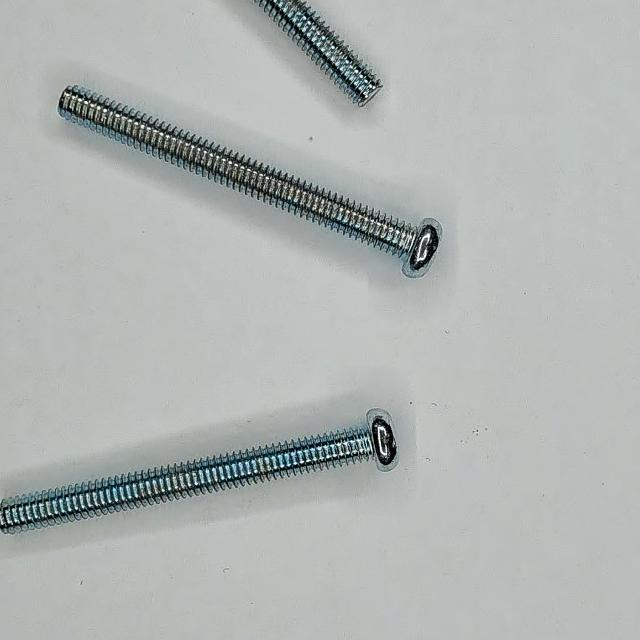Screw: (58, 85, 442, 278), (0, 409, 399, 534), (255, 0, 383, 106)
